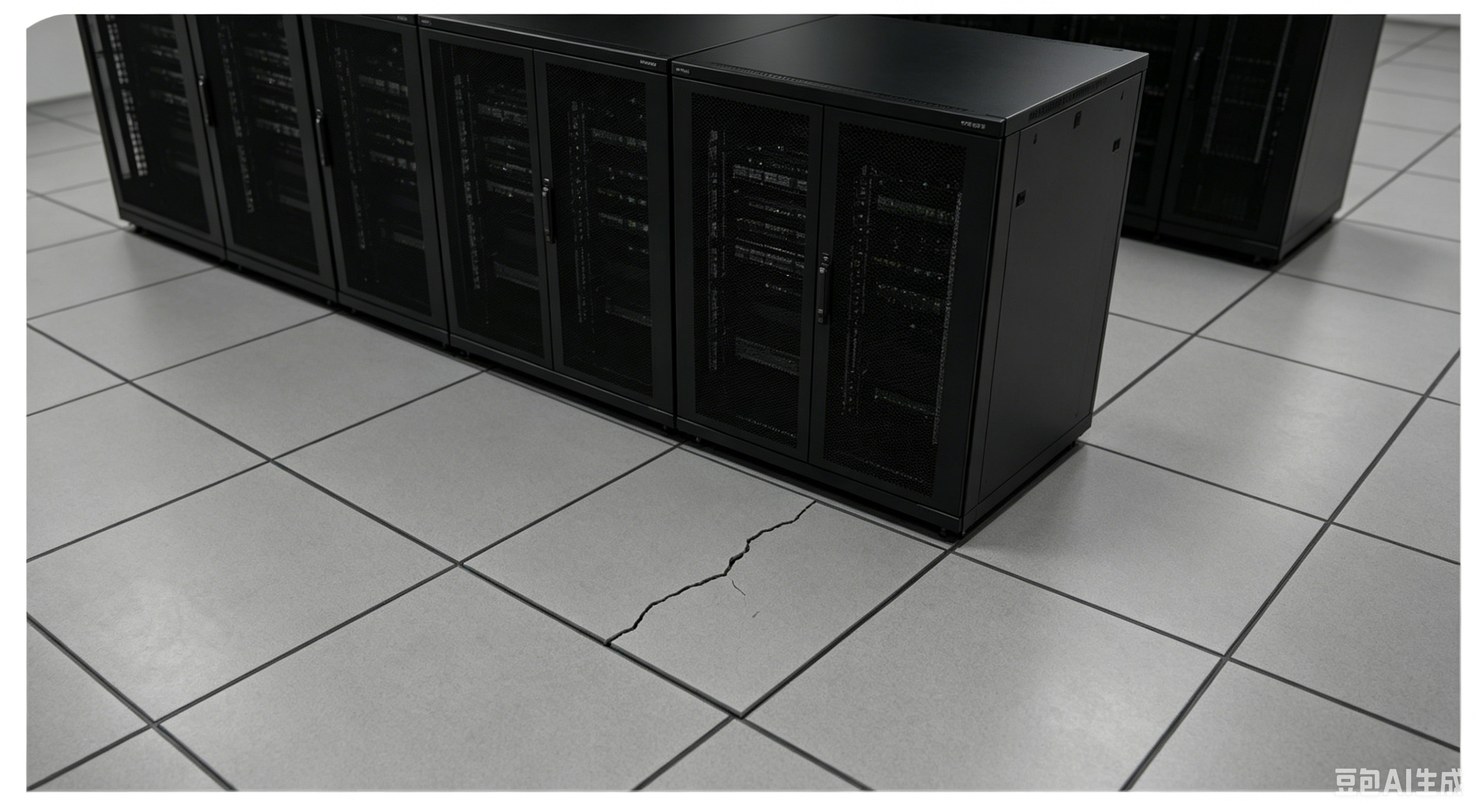floor_defect: (743, 484, 820, 568), (670, 540, 742, 609), (599, 590, 668, 649)
